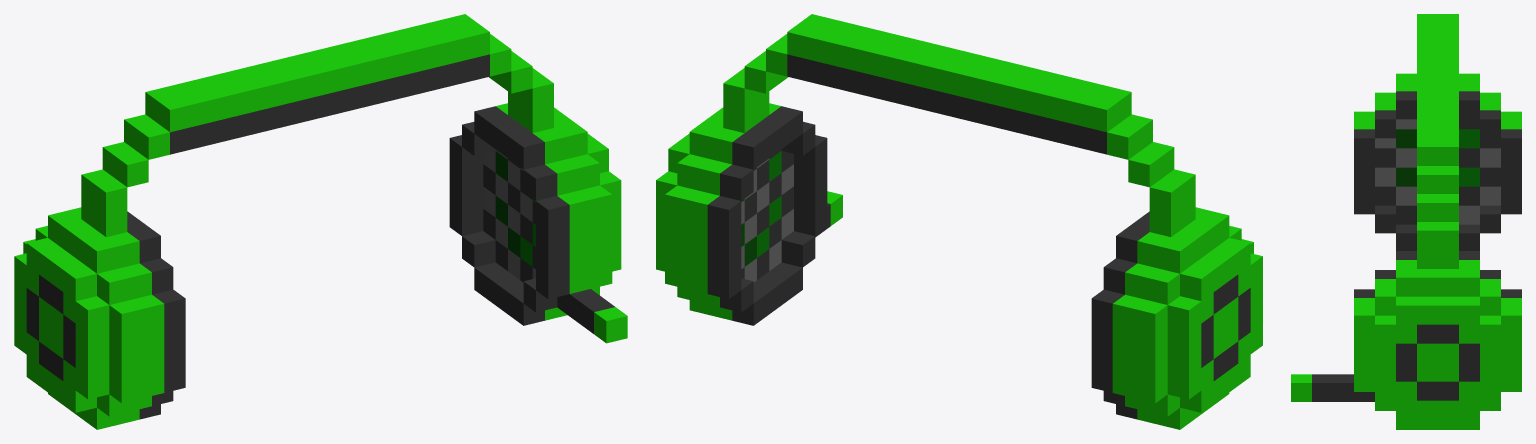
Rendered from accessories_head_razerkraken.glb.
The picture shows the model from 3 angles, left to right: view 1: azimuth 30°, elevation 25°; view 2: azimuth 150°, elevation 25°; view 3: azimuth 270°, elevation 25°; orthographic projection. The views are drawn at different scales.
Visible parts, largest first — view 1: model_0; view 2: model_0; view 3: model_0.
Part boxes in pixels (x1,y1,x2,y2): model_0: [14, 14, 627, 429]; model_0: [656, 14, 1262, 429]; model_0: [1291, 14, 1521, 429].
Bounding box in the file's own units: 25 × 13 × 11.
